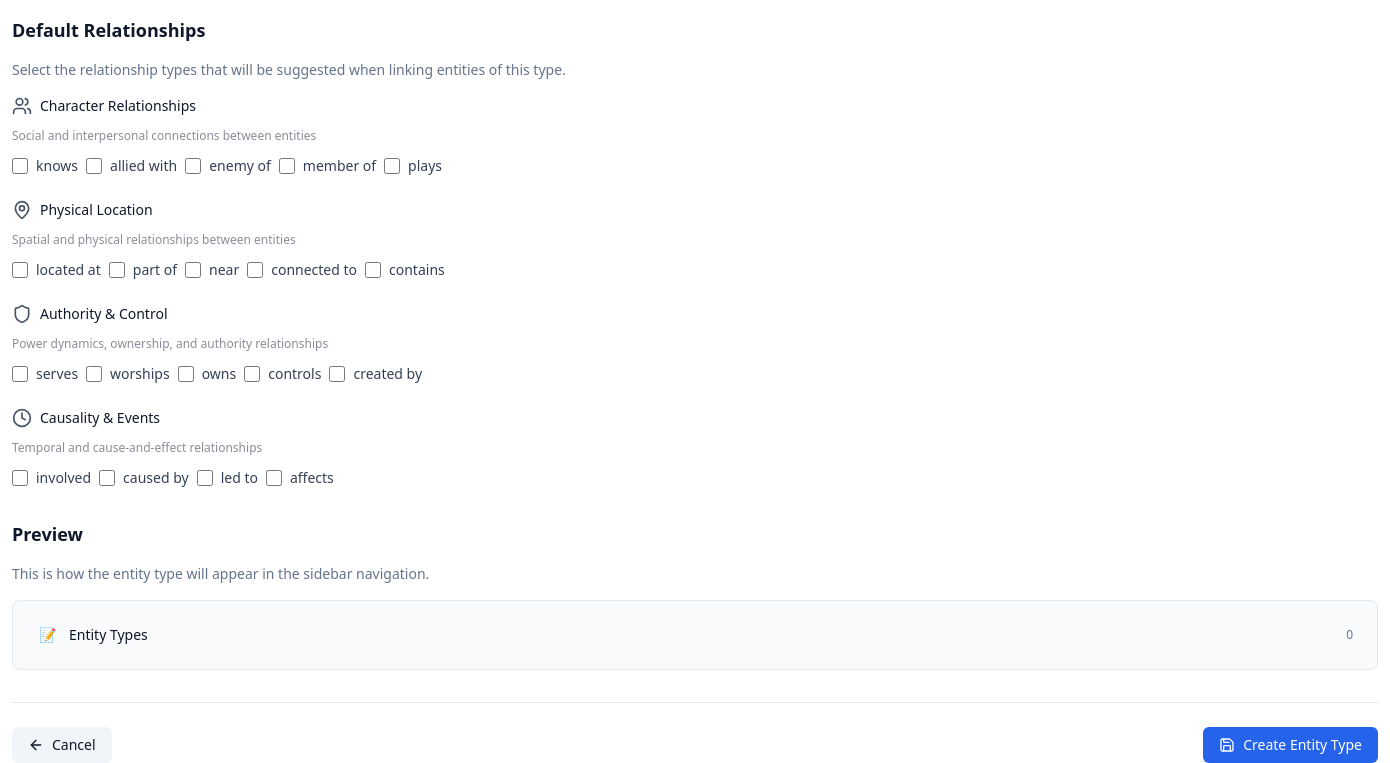
it: CustomEntityTypeForm - Improved Validation Messages (Issue #25 Phase 2) › should clear validation errors when fields are corrected
(page scrolled)
Note: Trigger validation
Click the button "Create Entity Type": (1291,745) [1203,727,1378,762]
(page scrolled)
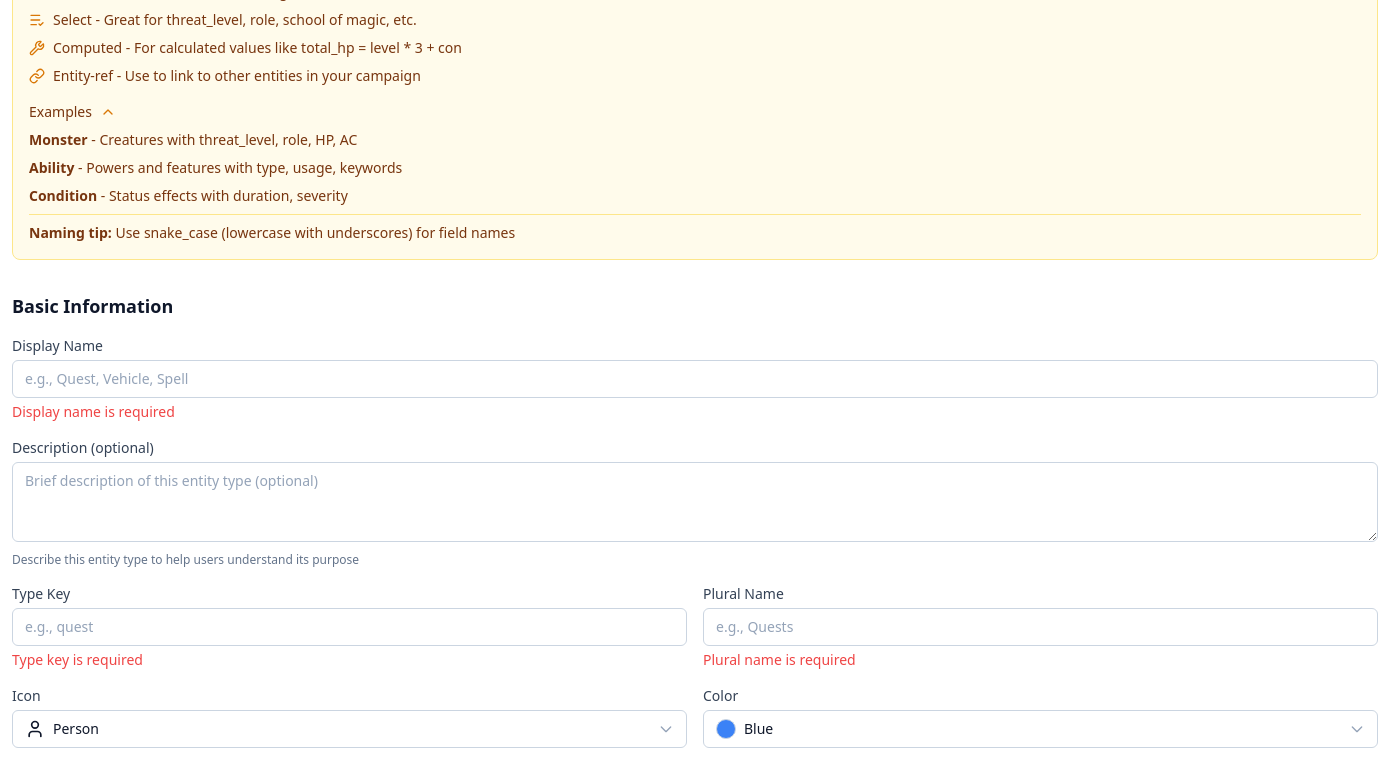
Expected: the text "Display name is required" is shown, [12,402,175,421]
Note: Fix the error
In the field labelled "Display Name": (695,379) [12,360,1378,398], type "Quest"
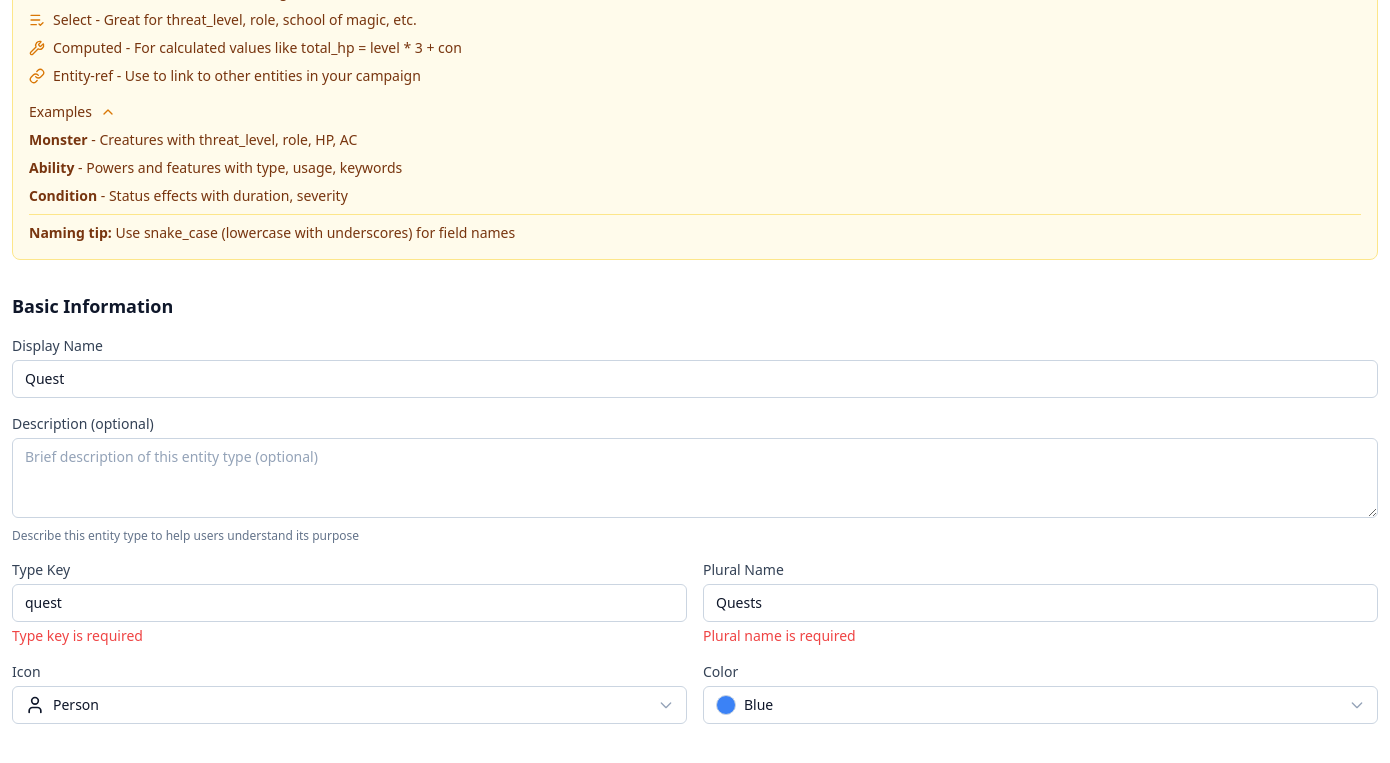
Expected: the text "Display name is required" is gone
